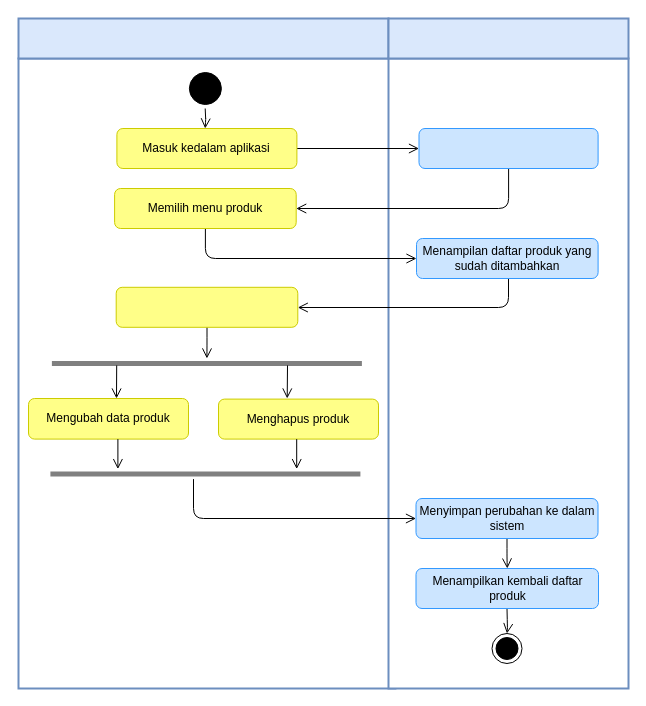
The diagram is 646 pixels wide and 706 high, and some of its shapes have lost their labels. The centre of each missing label's shape, as x and y in pixels:
"Menampilkan halaman dasbor penjual" goes at point 508,148.
"Menekan tombol ubah atau hapus" goes at point 206,306.
"Penjual" goes at point 203,38.
"Sistem" goes at point 508,38.
